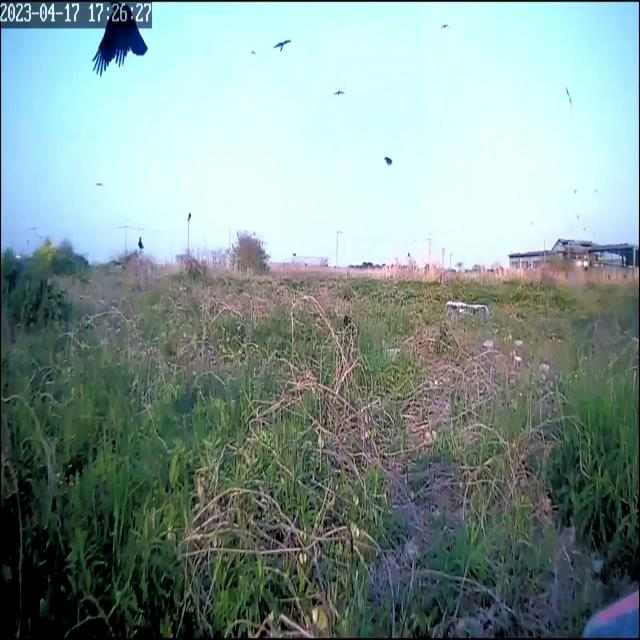bird: (94, 9, 148, 112), (272, 28, 292, 65), (333, 80, 345, 104), (384, 147, 394, 175), (440, 16, 450, 38)
